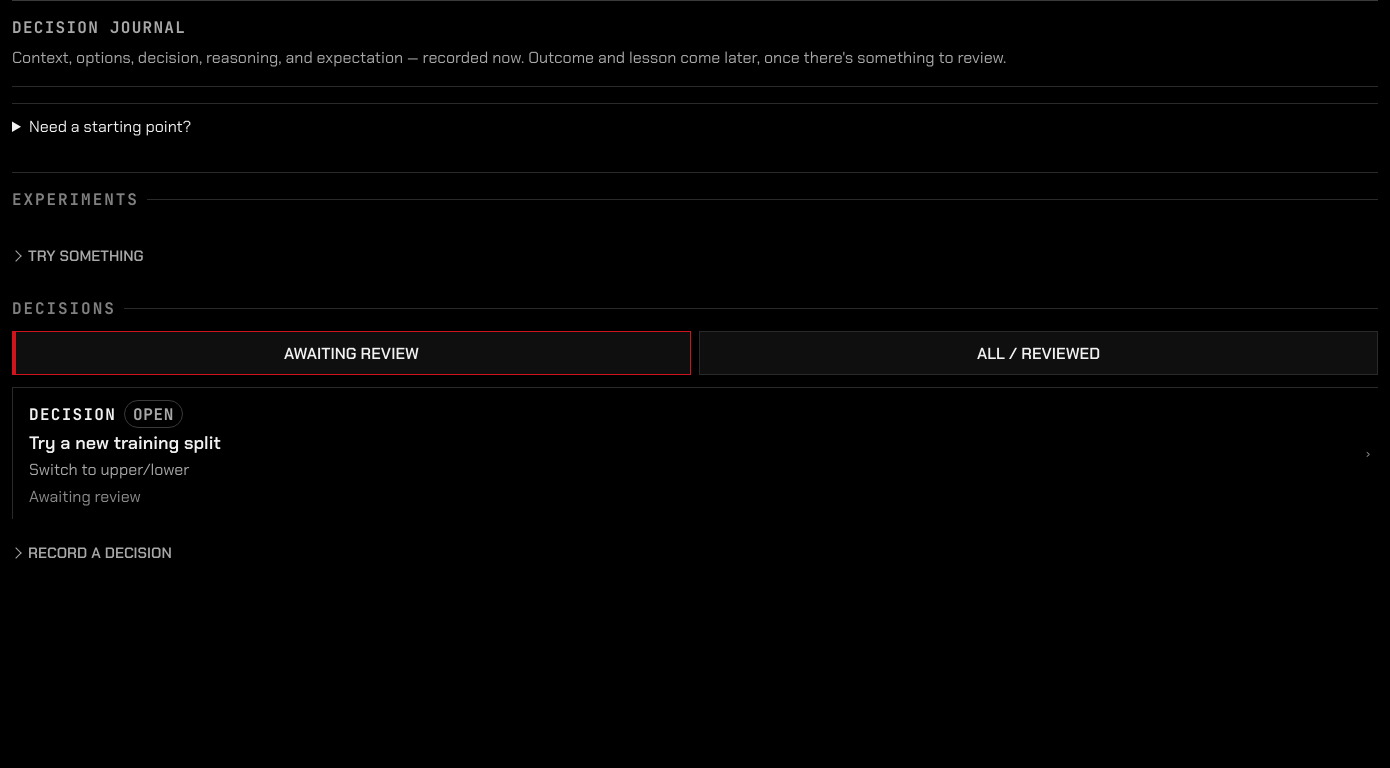
Test: JournalScreen (real browser) › an OPEN decision can be reviewed once; the REVIEW action then disappears
Click the button "OPEN Try a new training split": coordinates (695, 453) [12, 387, 1378, 519]
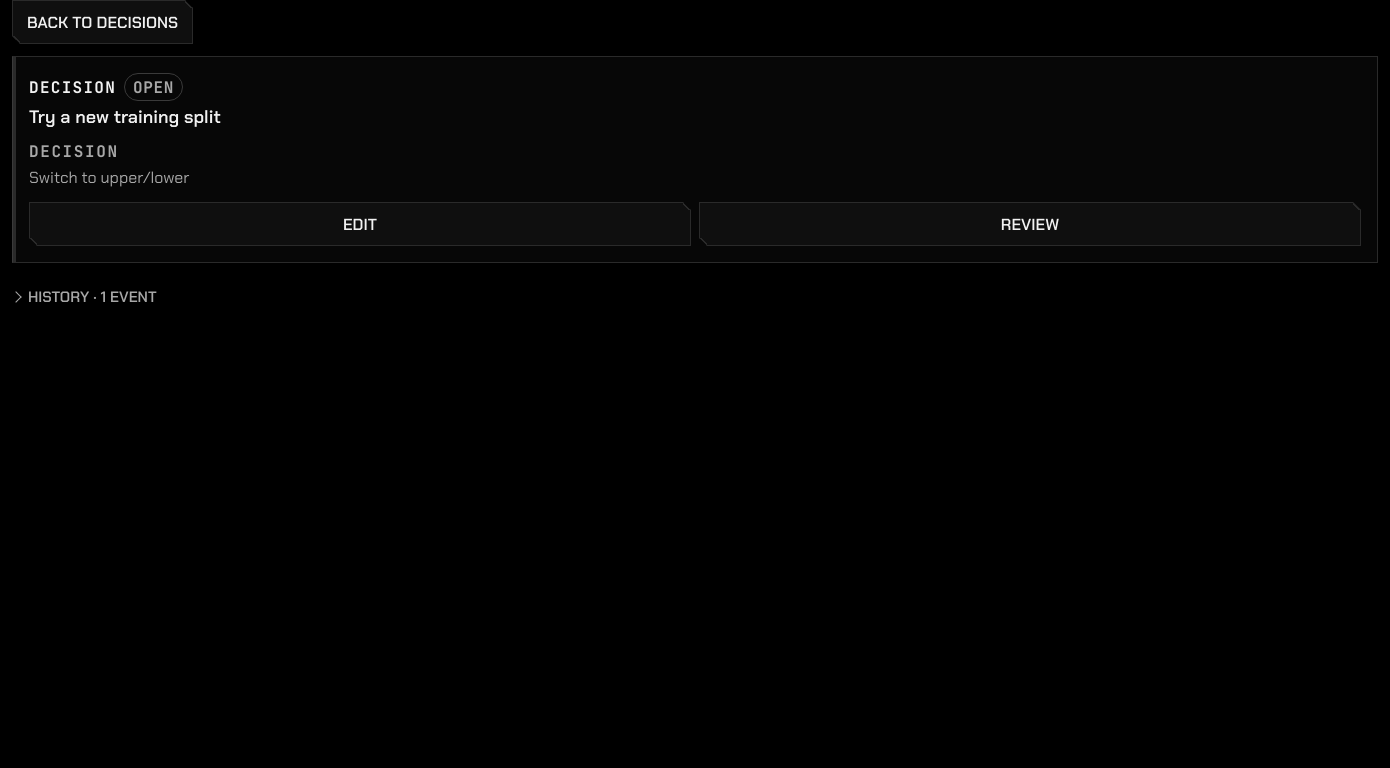
Expected: the text "OPEN" is shown, [124, 73, 183, 101]
Click the button "REVIEW": coordinates (1030, 224) [699, 202, 1361, 246]
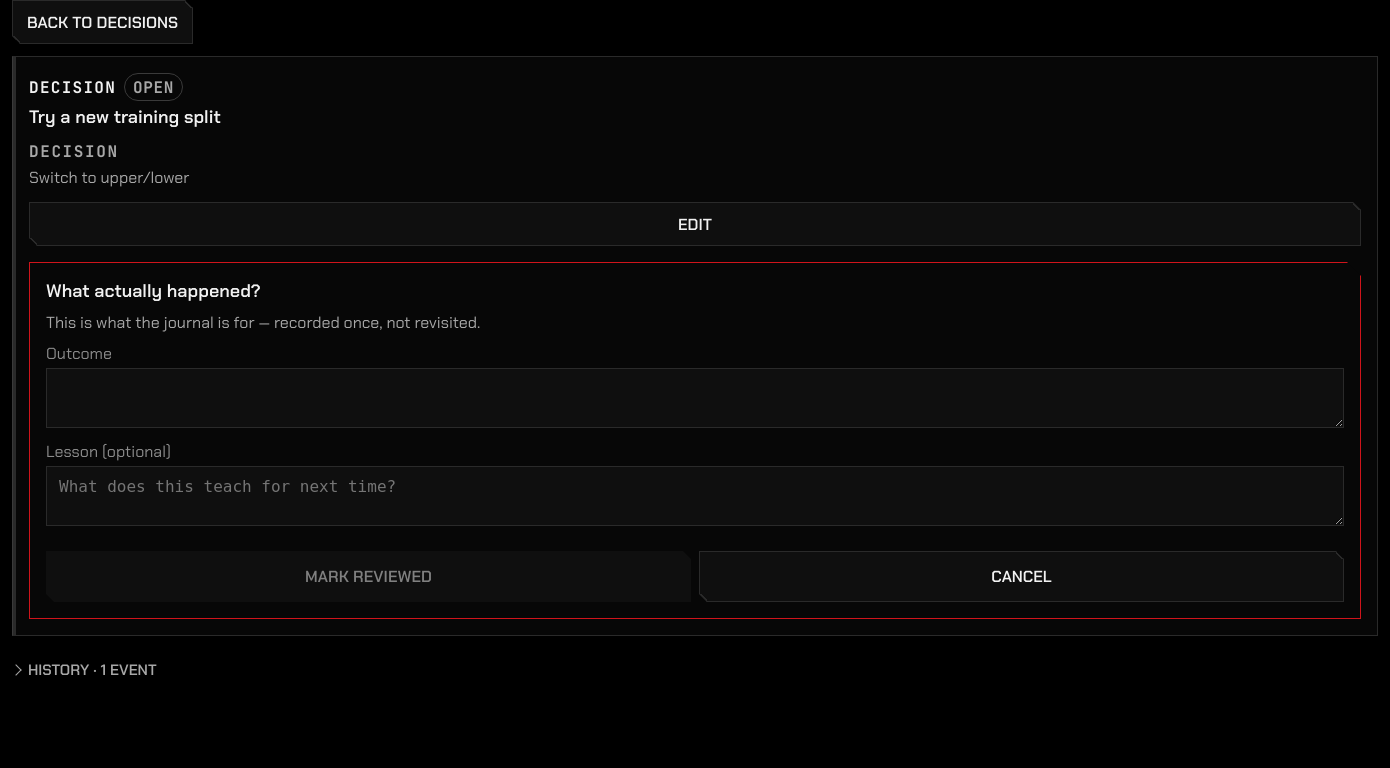
In the text box labelled "Outcome": coordinates (695, 398) [46, 368, 1344, 428], type "Recovered faster, hit every session"
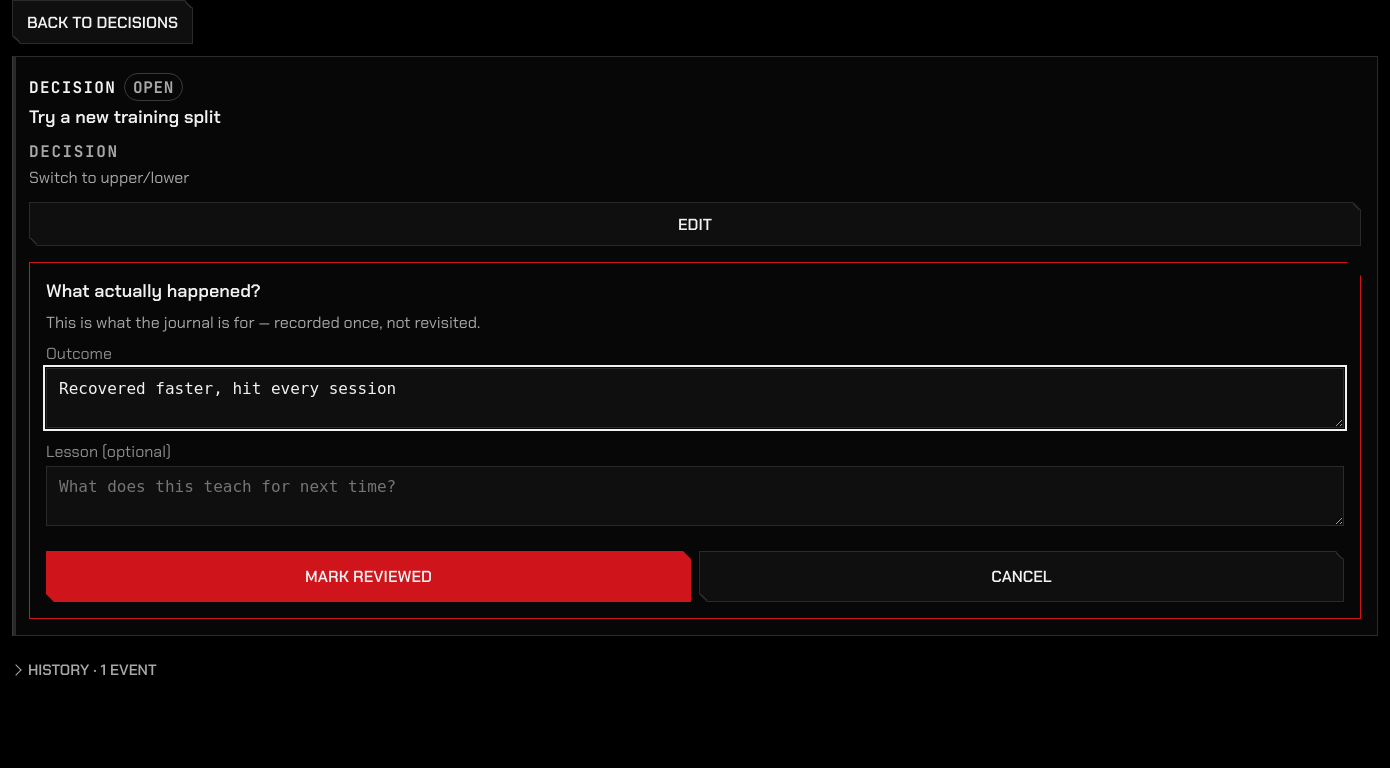
Click the button "MARK REVIEWED": coordinates (368, 576) [46, 551, 691, 602]
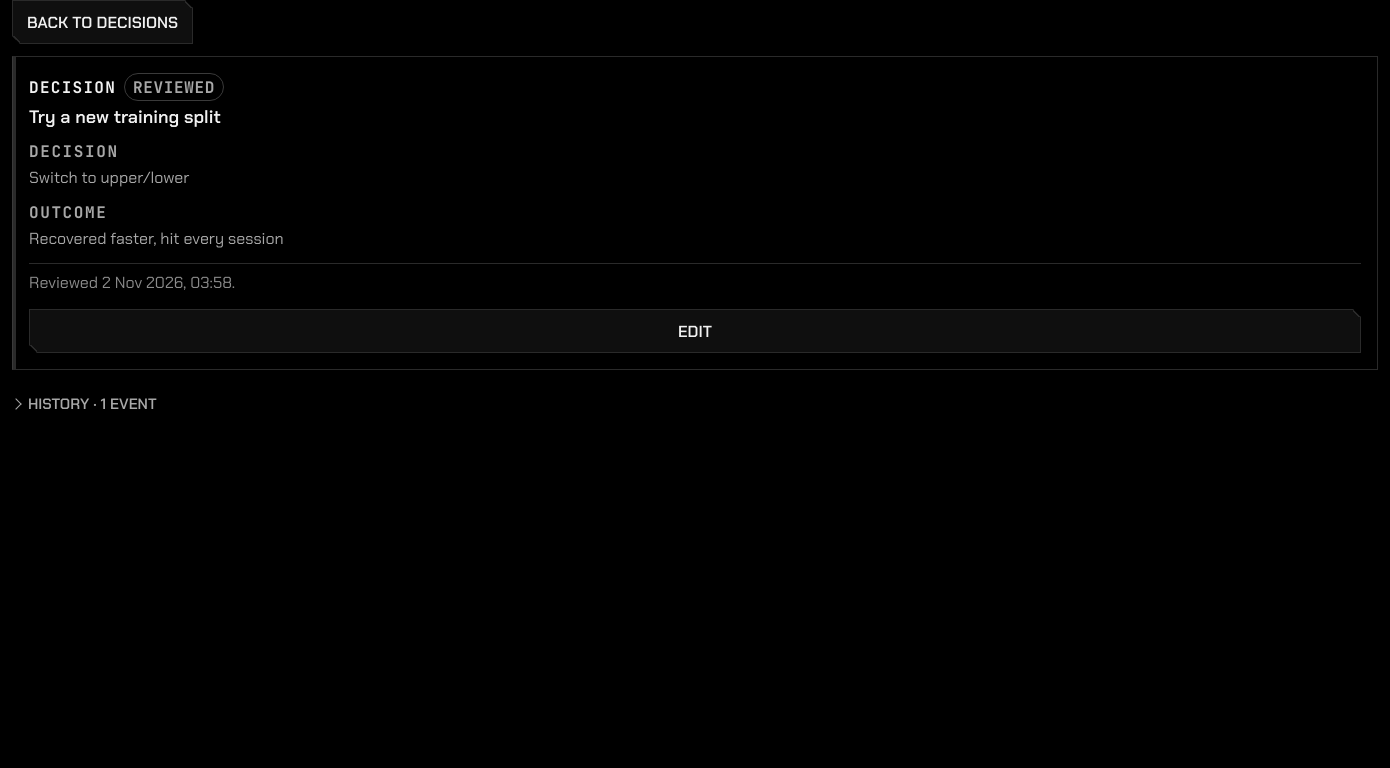
Result: the text "REVIEWED" is shown at [124, 73, 224, 101]
Result: the text "Recovered faster, hit every session" is shown at [29, 228, 284, 249]
